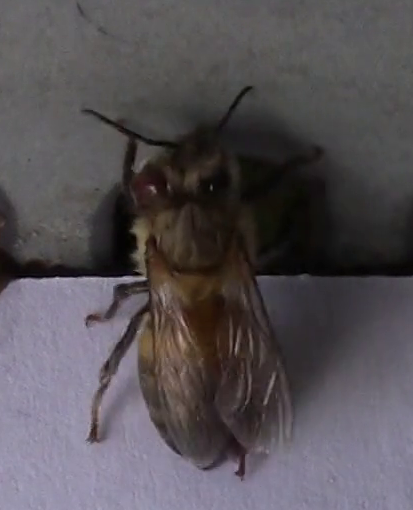Varroa destructor: (129, 168, 172, 202)
